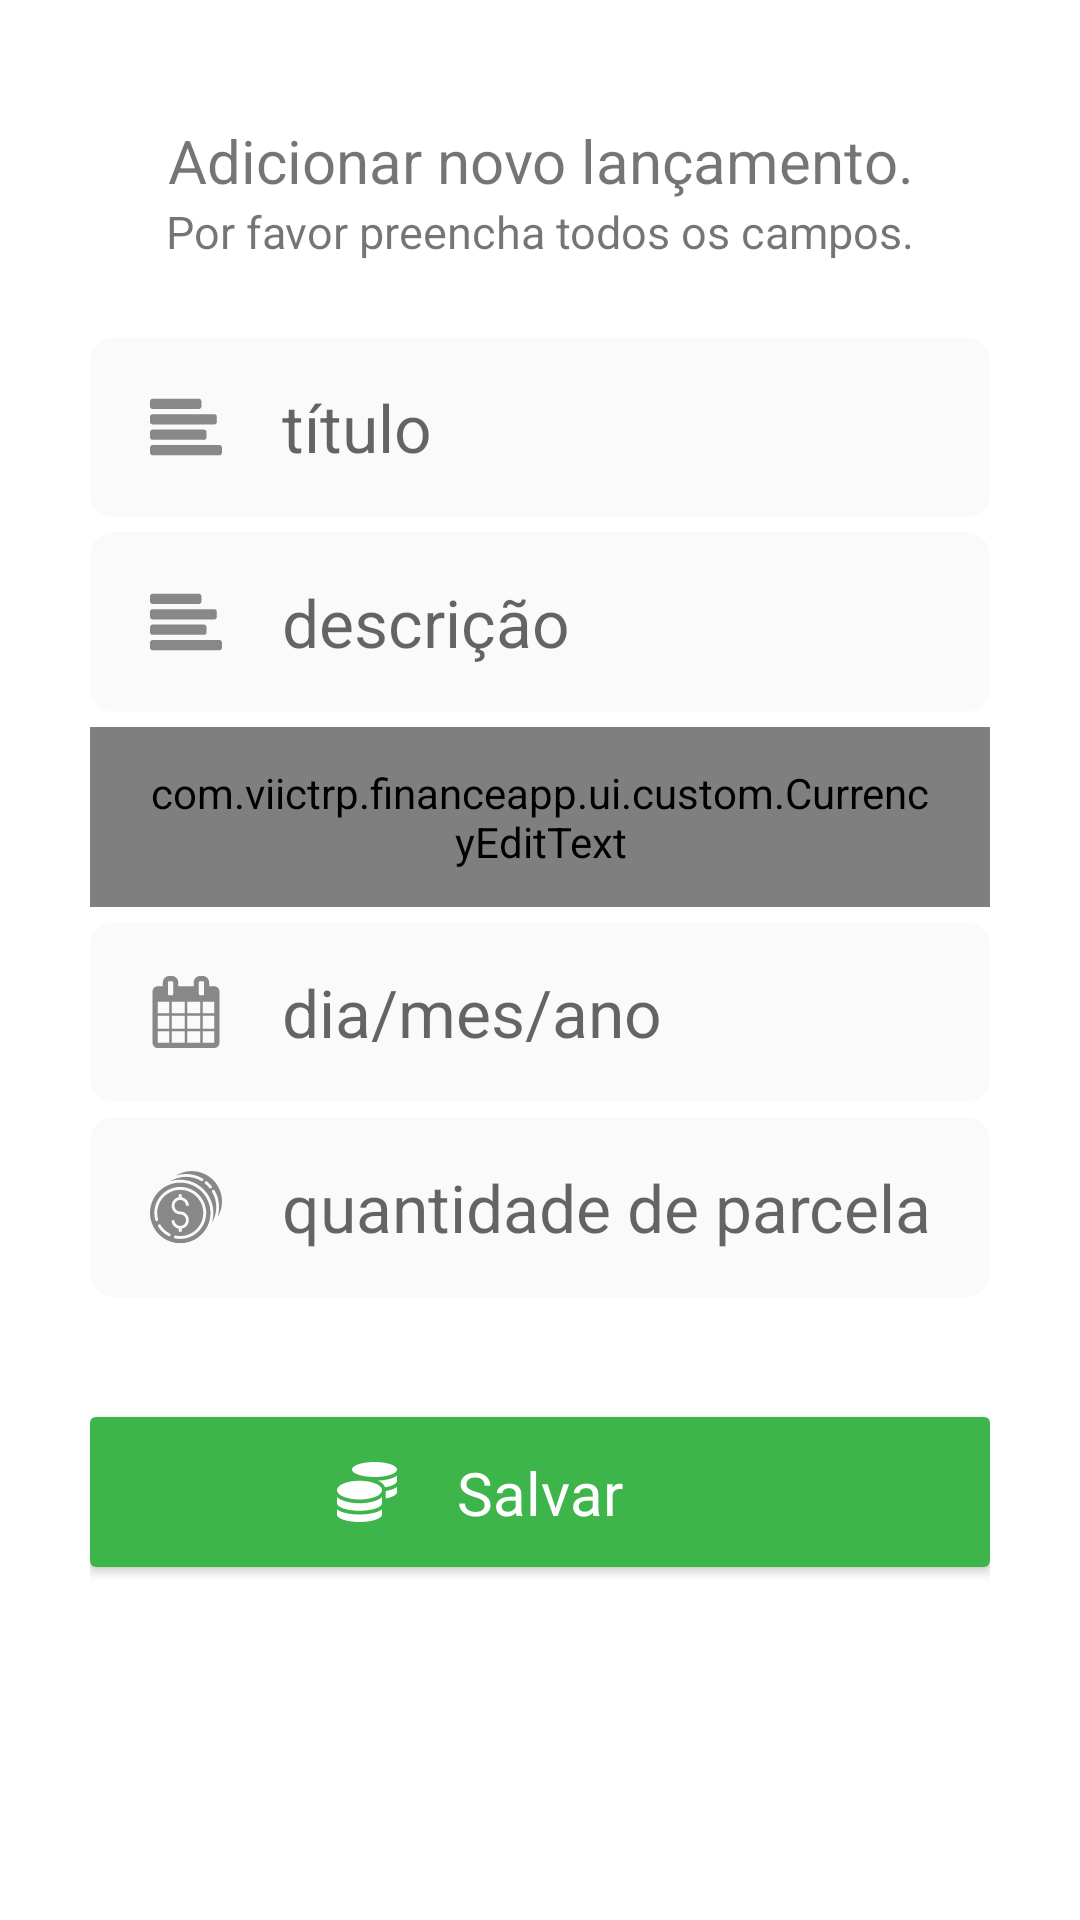

Icons on this 1080×1920 Android screen, each with its box as (x1, y1, x2, y2):
coins: (337, 1462, 397, 1522)
